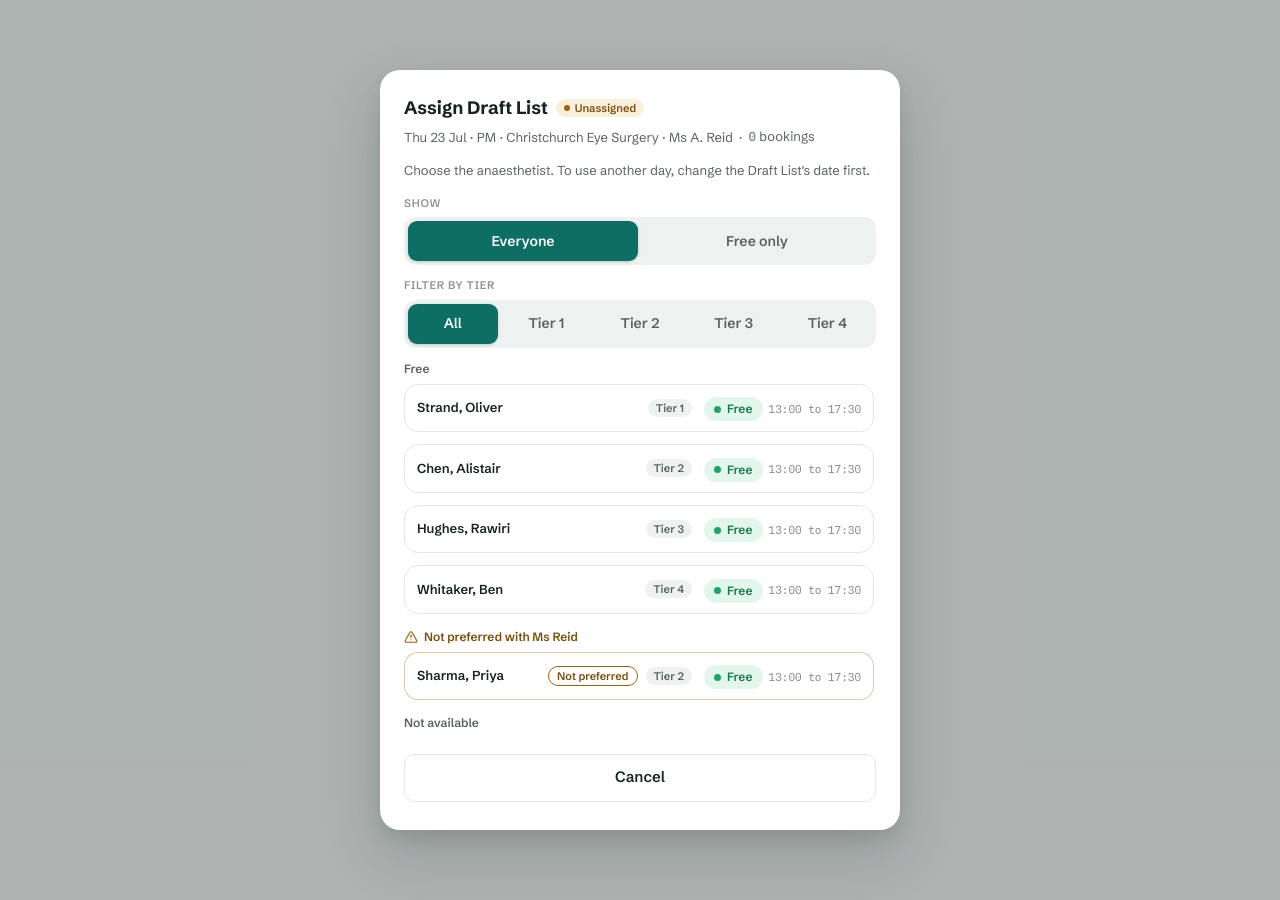
Test: AssignDraftListSheet › Dr Sharma for Ms Reid's request sits apart, still selectable; choosing her warns and reads "Assign anyway"
The image size is (1280, 900).
Expected: the text "Not preferred with Ms Reid" is shown, [404,629,578,644]
Click the button "Sharma, Priya Not preferred Tier 2 Free 13:00 to 17:30" at point(639, 676), box [404,652,874,700]
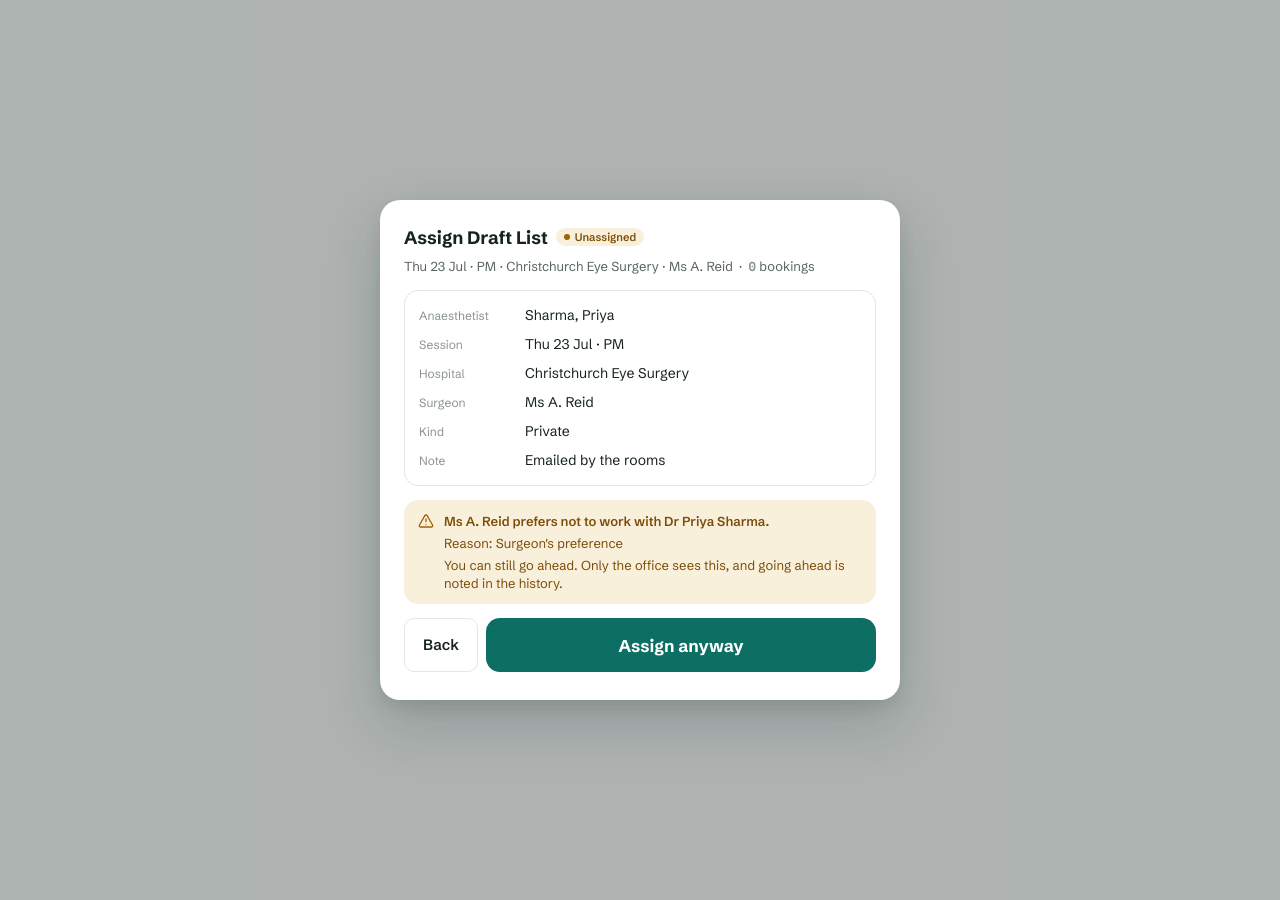
Result: the message shows "Ms A. Reid prefers not to work with Dr Priya Sharma." at [444,513,769,529]
Result: the button "Assign anyway" is shown at [486,618,876,672]
